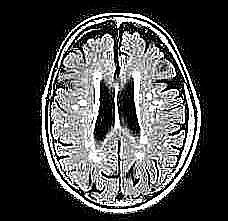Normal_Brain: (2, 2, 228, 221)
